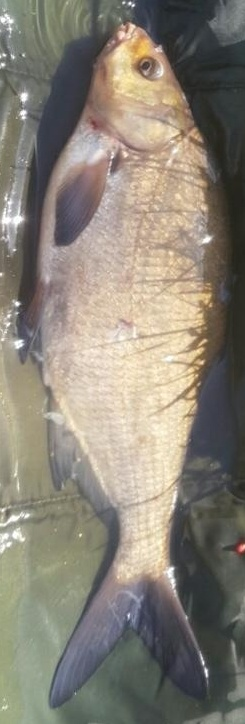Abramis brama: (20, 20, 225, 704)
